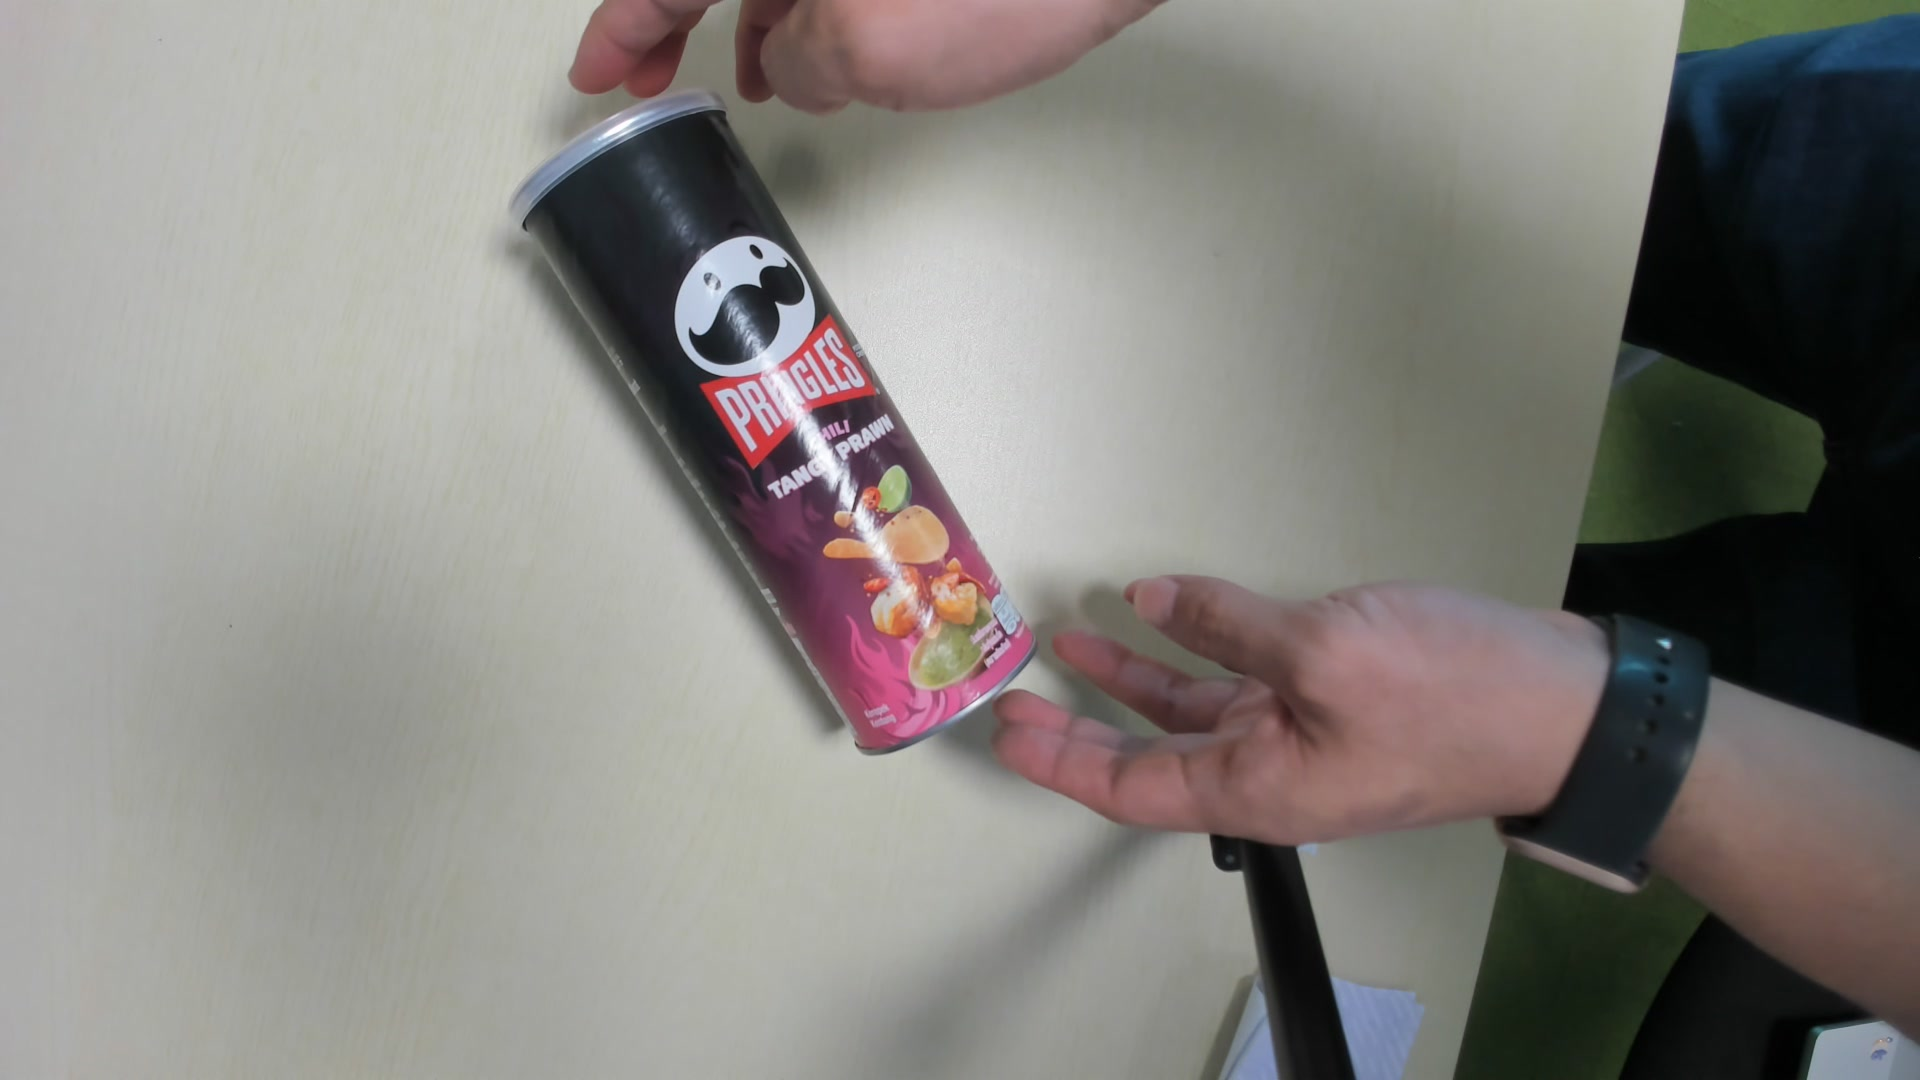PotatoChipsKeropok_0-99g_NonHalal_NonHealthy: (495, 94, 1030, 764)
